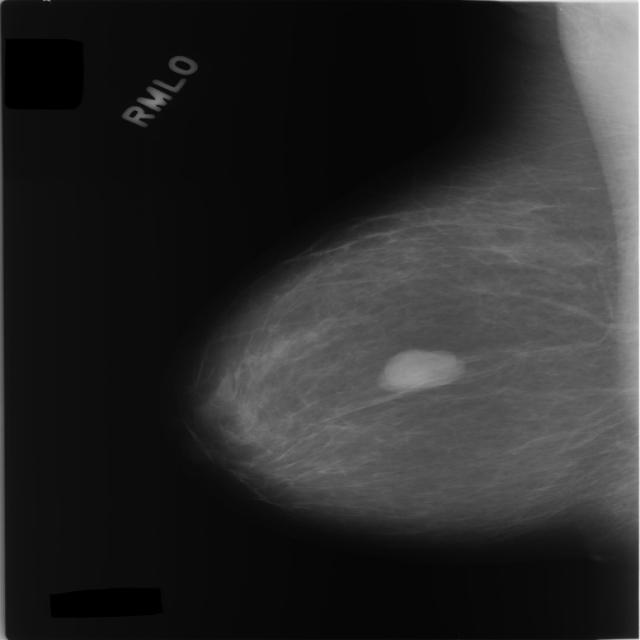tumour: (376, 348, 465, 391)
